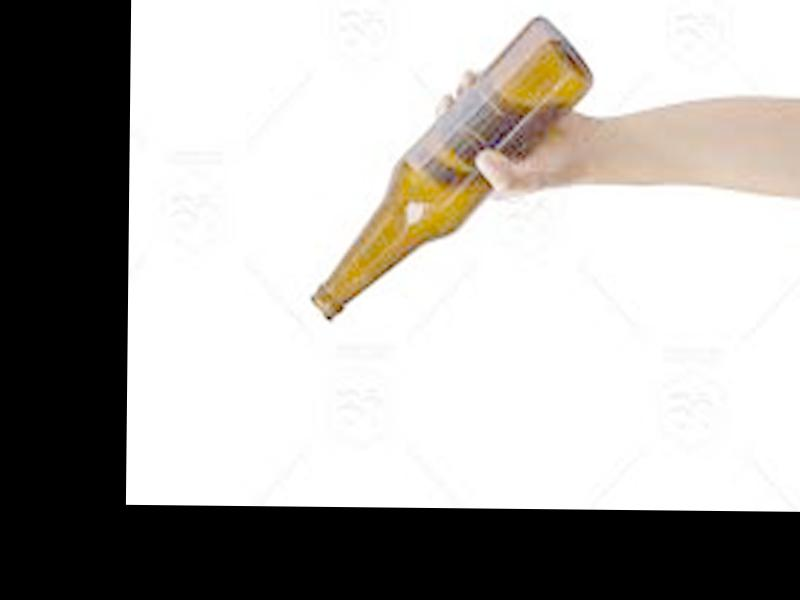Beer: (311, 11, 594, 322)
